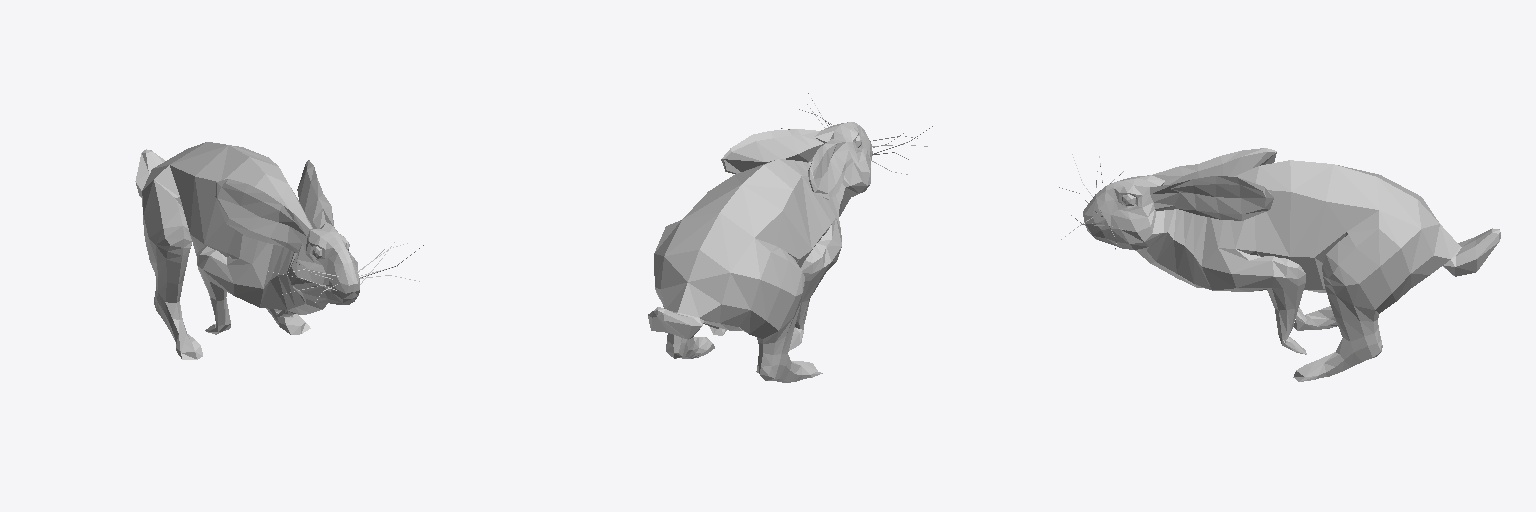
File: rabbit_000015.obj
3 views of the same model, side by side, from view 1: azimuth 30°, elevation 25°; view 2: azimuth 150°, elevation 25°; view 3: azimuth 270°, elevation 25° (orthographic).
Visible parts, largest first — view 1: Rabbit_Cylinder; view 2: Rabbit_Cylinder; view 3: Rabbit_Cylinder.
Boxes of the visible parts, x1,y1,x2,y2 form: Rabbit_Cylinder: [135, 142, 423, 359]; Rabbit_Cylinder: [648, 93, 932, 382]; Rabbit_Cylinder: [1059, 148, 1500, 381].
Bounding box in the file's own units: 7.11 × 9.73 × 20.19.